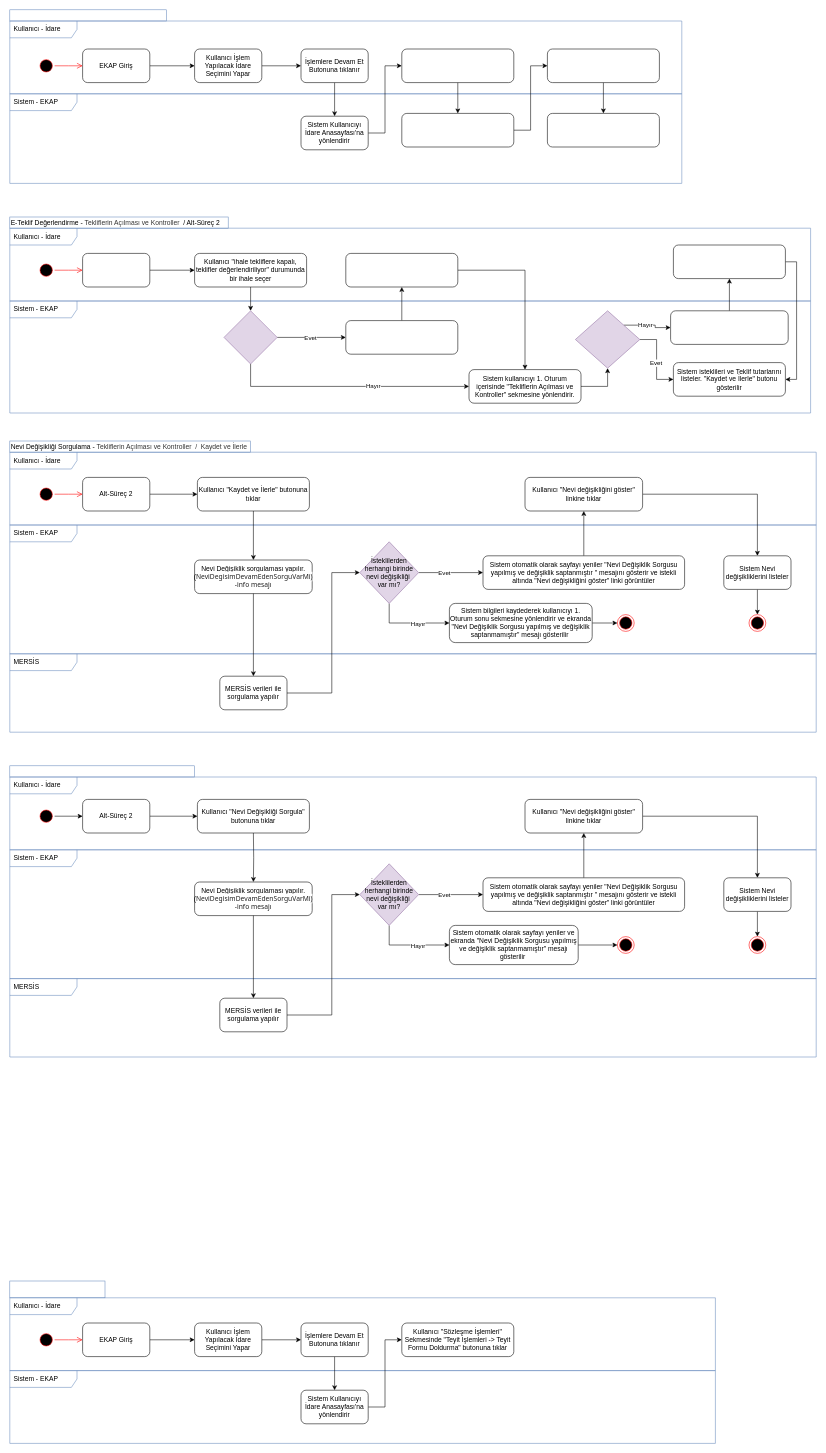
Some shapes in this 826 by 1453 pixel diagram are drawn without their labels. Here are the shapes that lost their labels. From the top down, the centre of each, then its label:
point (88, 15): E-Teklif Değerlendirme - İhale Arama / Alt-Süreç 1
point (457, 65): Kullanıcı "Teklif İşlemleri" Sekmesinde "E-Teklif Değerlendirme" butonuna tıklar
point (603, 65): Kullanıcı "Ara" butonuna tıklar. (Filtreleme işlemi yapılabilir)
point (457, 130): Sistem E-Teklif Değerlendirme - İhale arama sayfasını açar
point (603, 130): Sistem istenilen aramaya uygun bulunan ihale sonuçlarını listeler
point (116, 270): Alt-Süreç 1
point (401, 270): Kullanıcı 1. Oturum butonuna tıklar
point (729, 261): Kullanıcı "Teklifleri Aç" butonuna tıklar
point (250, 337): 2. Oturum var mı?
point (401, 337): Sistem kullanıcıyı 1. Oturum ve 2. Oturum seçeneklerini sunar
point (607, 339): E-Teklifi başarı ile açılan istekli var mı?
point (729, 327): "Teklifleri Aç" butonunu gösterilir
point (102, 771): Nevi Değişikliği Sorgulama - Tekliflerin Açılması ve Kontroller
point (57, 1289): Nevi Değişikliği Sorgulama - Sözleşme Öncesi Teyit
